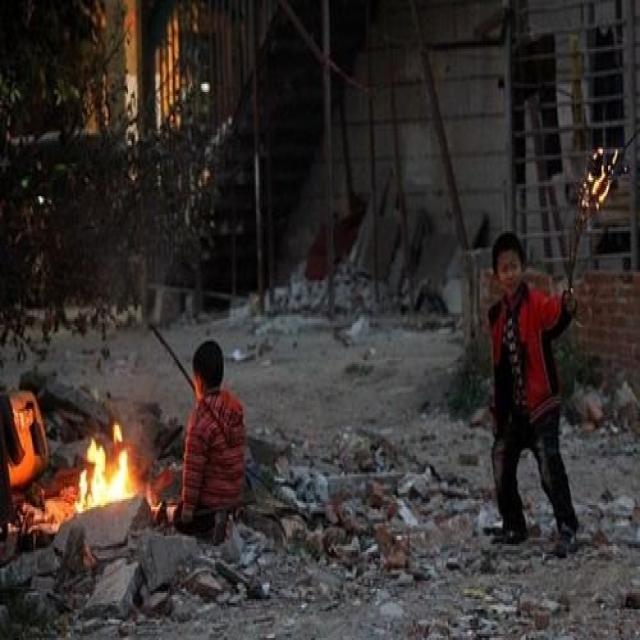Fire: (72, 421, 136, 515), (580, 145, 620, 209)
